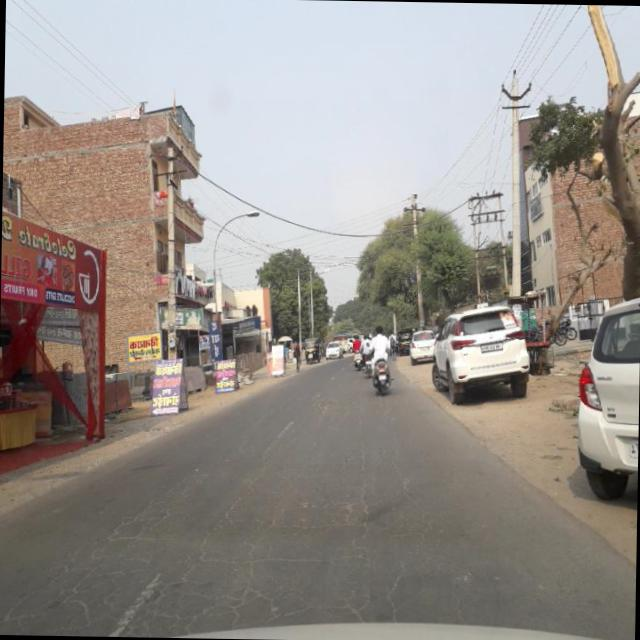crack: (20, 462, 441, 626)
